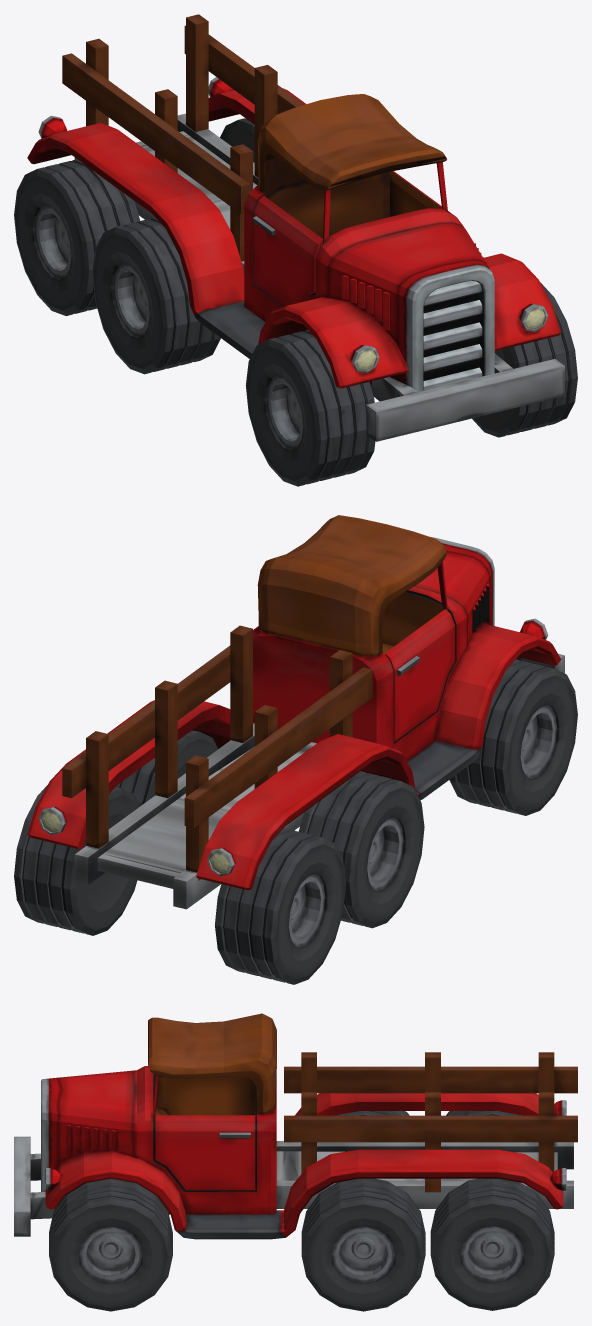
Rendered from KuormaAuto.fbx.
3 renders of one model, top to bottom at view 1: azimuth 30°, elevation 25°; view 2: azimuth 150°, elevation 25°; view 3: azimuth 270°, elevation 25°, orthographic. The views are drawn at different scales.
Visible parts, largest first — view 1: Rekka; view 2: Rekka; view 3: Rekka.
Boxes of the visible parts, x1=… form: Rekka: x1=14, y1=14, x2=577, y2=486; Rekka: x1=14, y1=515, x2=577, y2=984; Rekka: x1=14, y1=1013, x2=577, y2=1311.
Size of the model in its own units: 264 by 273 by 600.
